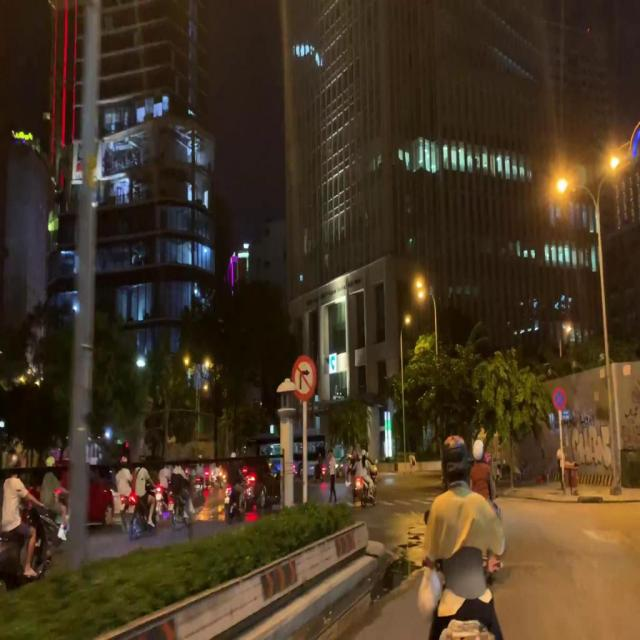cam_dung_xe_va_do_xe: (553, 388, 567, 412)
cam_re_phai: (291, 355, 317, 402)
